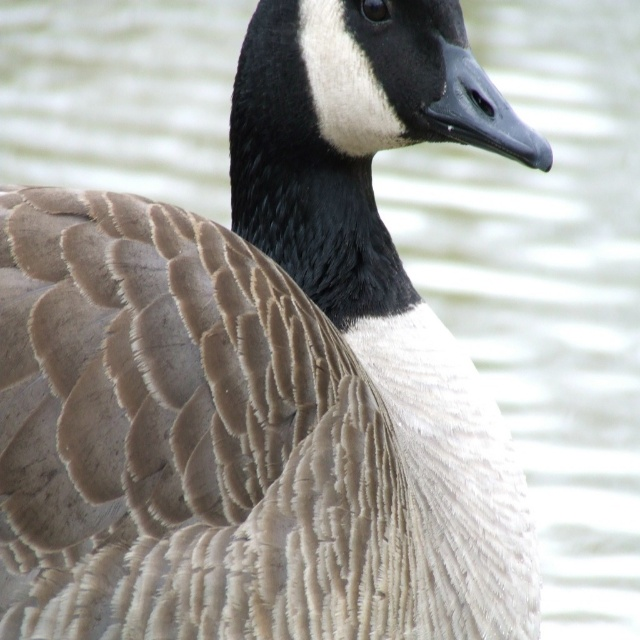Duck: (0, 0, 561, 639)
